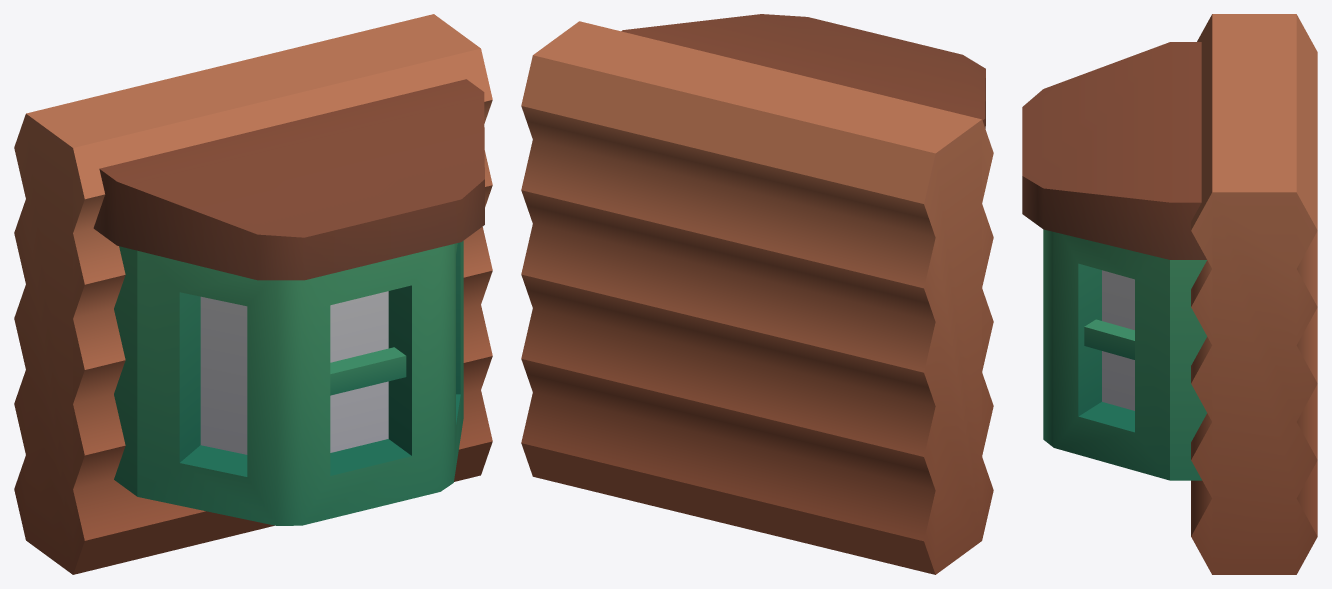
File: cabin-window-large.glb
The picture shows the model from 3 angles, left to right: view 1: azimuth 30°, elevation 25°; view 2: azimuth 150°, elevation 25°; view 3: azimuth 270°, elevation 25°; orthographic projection. The views are drawn at different scales.
Visible parts, largest first — view 1: cabin-window-large; view 2: cabin-window-large; view 3: cabin-window-large.
Part boxes in pixels (<box>): cabin-window-large: <box>14,14,492,574</box>; cabin-window-large: <box>521,14,993,574</box>; cabin-window-large: <box>1022,14,1317,574</box>.
Size of the model in its own units: 1 by 1 by 0.7.
